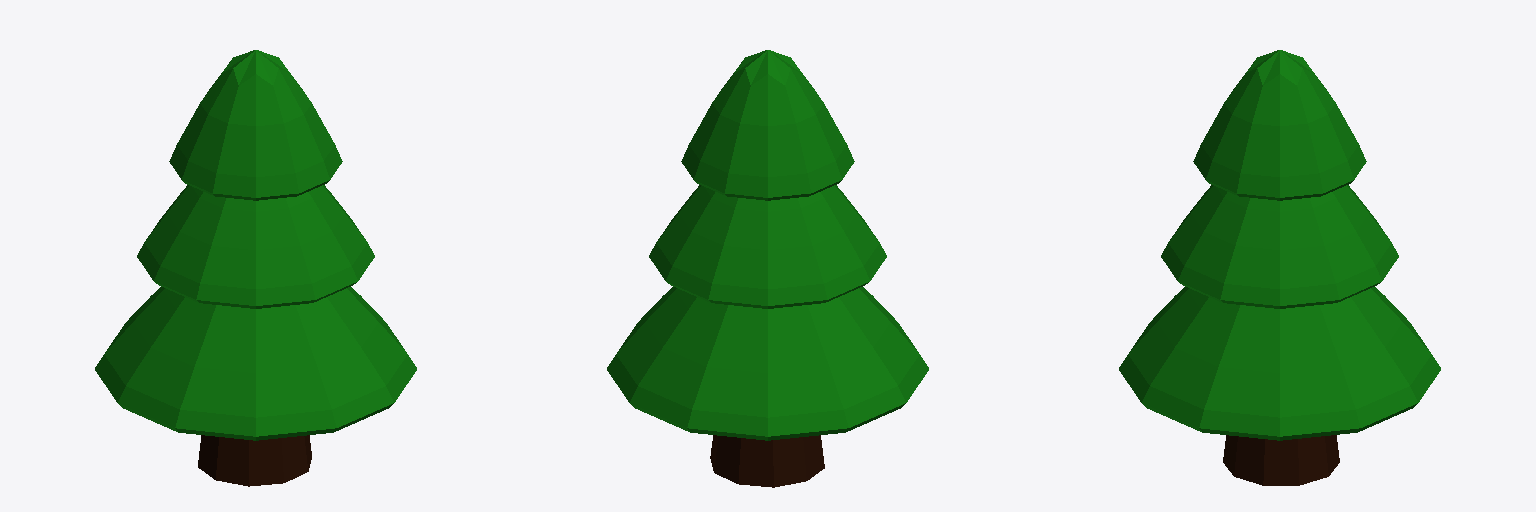
The model's file is tree.obj.
3 renders of one model, left to right at view 1: azimuth 30°, elevation 25°; view 2: azimuth 150°, elevation 25°; view 3: azimuth 270°, elevation 25°, orthographic.
Visible parts, largest first — view 1: Cylinder, Cylinder.001_Cylinder.002; view 2: Cylinder, Cylinder.001_Cylinder.002; view 3: Cylinder, Cylinder.001_Cylinder.002.
Part boxes in pixels (bbox=[...]): Cylinder: bbox=[95, 50, 416, 440]; Cylinder.001_Cylinder.002: bbox=[198, 435, 311, 486]; Cylinder: bbox=[607, 50, 928, 440]; Cylinder.001_Cylinder.002: bbox=[710, 435, 824, 487]; Cylinder: bbox=[1119, 50, 1440, 440]; Cylinder.001_Cylinder.002: bbox=[1223, 435, 1339, 485].
Size of the model in its own units: 1.73 by 2.47 by 1.75.